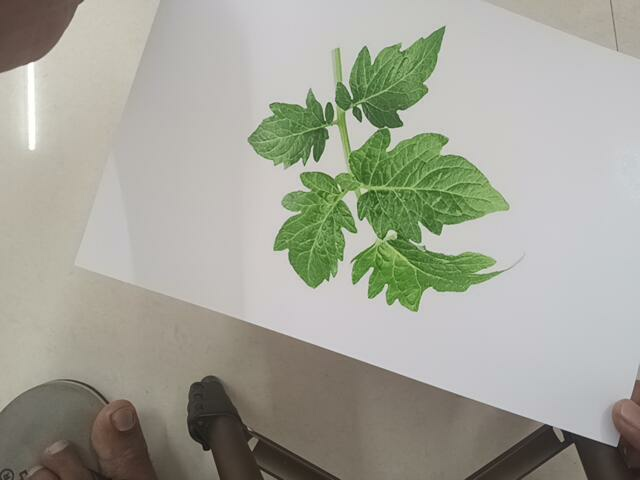Tomamto_Leaf_Healthy: (233, 18, 546, 320)
